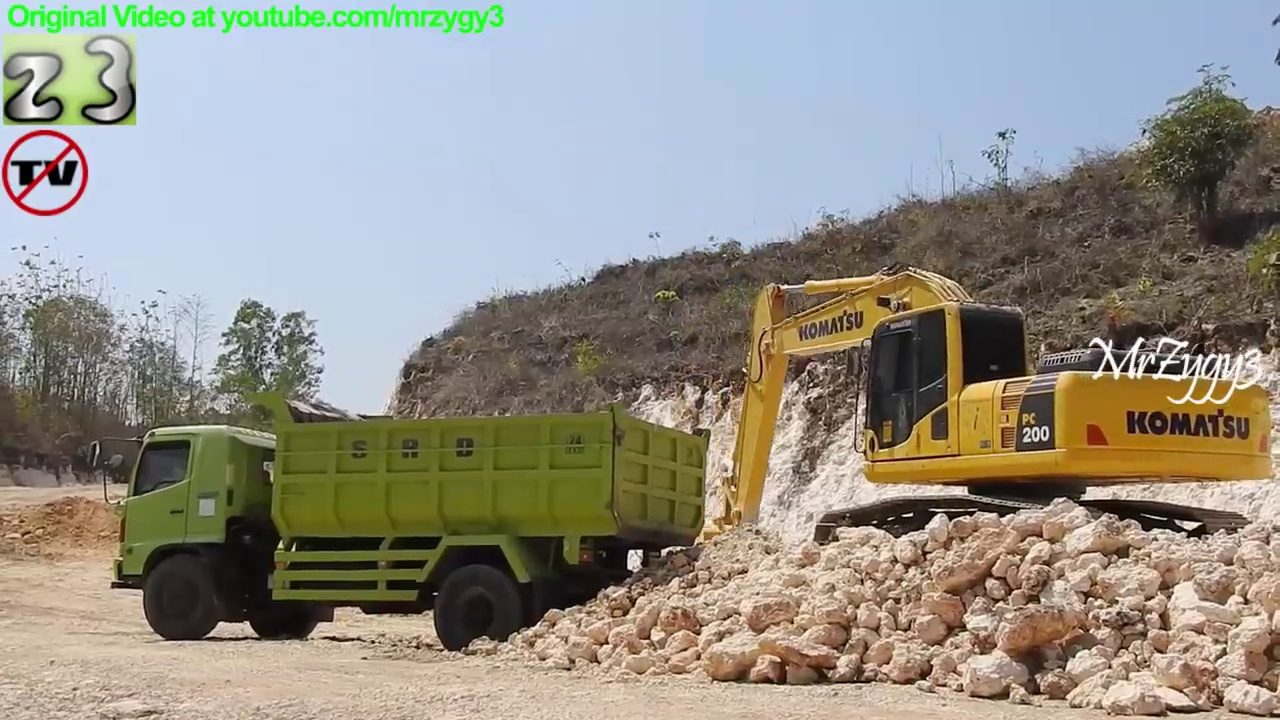excavator: (682, 257, 1280, 603)
truck: (84, 385, 715, 657)
